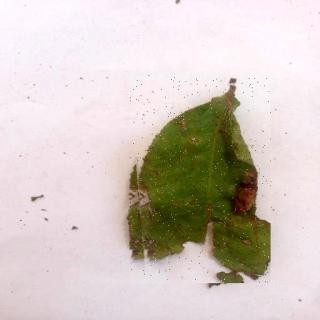Brown Blight: (131, 78, 273, 285)
